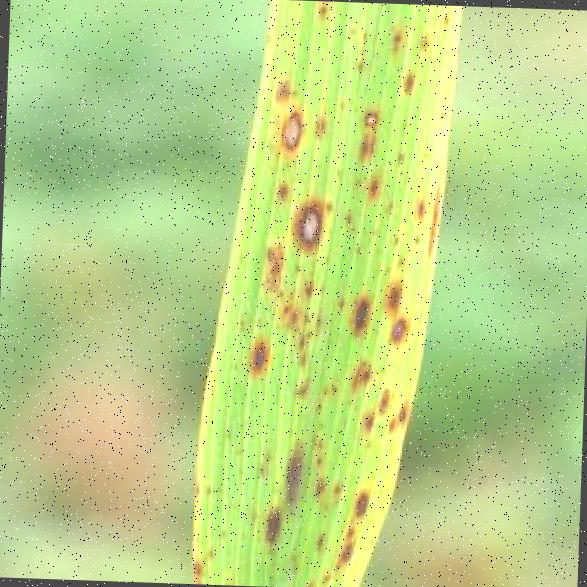Brown_Spot: (418, 169, 446, 268), (276, 430, 310, 511), (284, 196, 326, 256), (236, 326, 277, 386), (272, 101, 306, 160), (341, 350, 380, 398), (256, 238, 288, 296), (256, 499, 286, 556), (345, 288, 372, 344), (375, 271, 406, 319), (328, 534, 360, 572), (394, 60, 421, 102), (346, 482, 373, 524), (384, 308, 410, 351), (388, 391, 415, 427), (353, 405, 378, 435), (364, 167, 384, 204), (372, 382, 392, 418), (308, 525, 330, 555), (412, 23, 432, 55), (384, 26, 405, 56), (308, 472, 329, 502), (358, 102, 380, 130), (410, 192, 428, 226), (292, 342, 311, 374), (184, 552, 208, 576), (308, 110, 327, 140), (380, 410, 399, 440), (290, 372, 310, 400), (348, 48, 366, 76), (280, 558, 308, 576), (338, 518, 362, 538), (310, 304, 324, 338), (271, 76, 289, 102), (272, 177, 290, 202), (282, 305, 298, 333), (248, 460, 272, 478), (290, 324, 308, 348), (388, 144, 408, 164), (318, 565, 335, 587), (297, 278, 315, 298), (308, 431, 326, 451), (307, 451, 327, 469), (200, 380, 220, 398), (417, 141, 434, 162), (186, 480, 202, 502), (311, 1, 329, 20), (434, 7, 452, 26), (212, 522, 231, 540), (386, 230, 404, 248), (390, 250, 408, 268), (326, 479, 346, 495), (260, 26, 276, 46), (250, 310, 266, 330), (270, 281, 286, 301), (333, 93, 347, 115), (332, 291, 346, 313), (320, 192, 334, 214), (310, 417, 328, 434), (326, 492, 344, 509), (339, 206, 354, 226), (185, 570, 210, 582), (372, 478, 386, 499), (433, 106, 449, 124), (324, 377, 340, 395), (309, 396, 325, 414), (329, 162, 345, 180), (226, 356, 242, 374), (258, 447, 274, 465), (296, 304, 308, 328), (366, 218, 382, 236), (234, 522, 248, 542), (202, 540, 216, 560), (336, 412, 350, 432), (232, 464, 248, 480), (395, 115, 409, 133), (382, 195, 396, 213), (200, 480, 214, 498), (350, 170, 362, 190), (299, 576, 323, 586), (355, 26, 369, 42), (409, 231, 423, 247), (360, 434, 374, 450), (288, 258, 302, 274), (234, 315, 248, 331), (365, 533, 379, 549), (277, 296, 289, 314), (316, 276, 328, 294), (344, 23, 358, 38), (246, 509, 260, 523), (291, 521, 305, 535), (284, 548, 298, 562), (371, 242, 385, 256), (350, 240, 362, 256), (222, 426, 234, 440), (246, 429, 258, 441)
